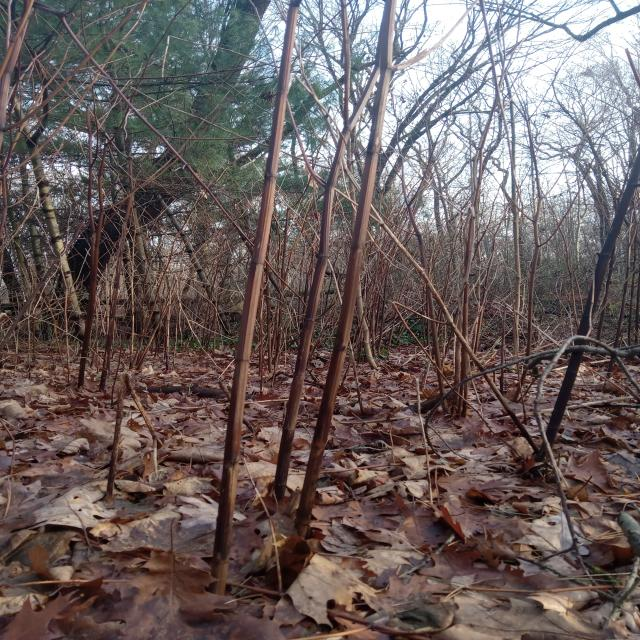knotweed-stems: (289, 1, 400, 541), (207, 2, 303, 597)
